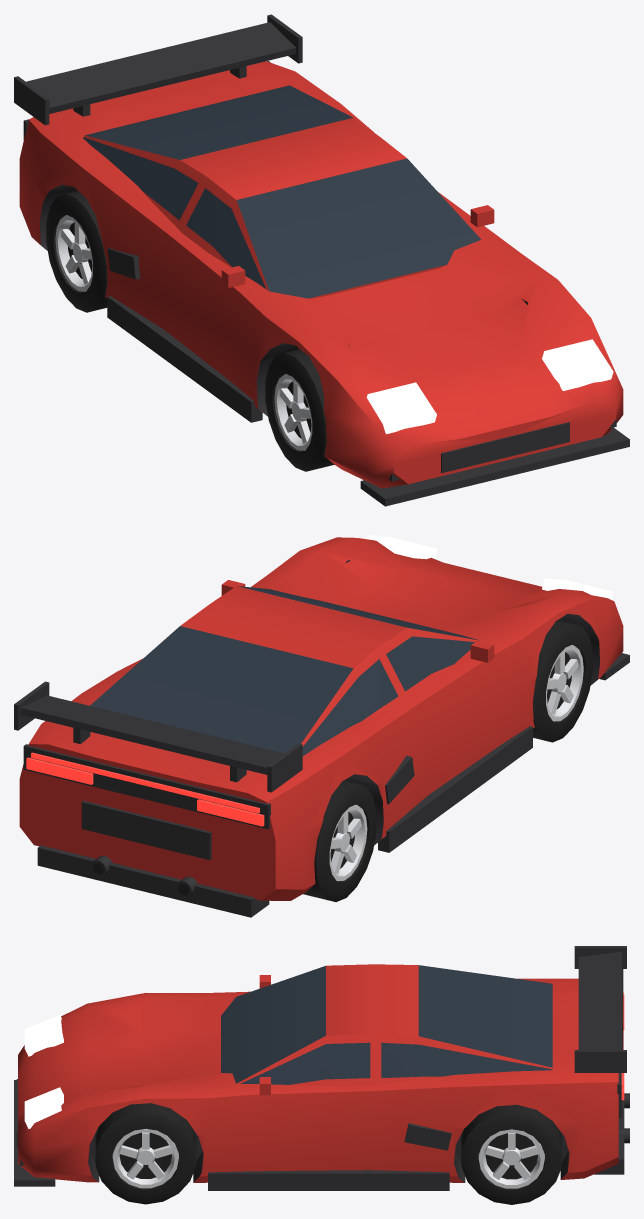
Rendered from car_a.glb.
The picture shows the model from 3 angles, top to bottom: view 1: azimuth 30°, elevation 25°; view 2: azimuth 150°, elevation 25°; view 3: azimuth 270°, elevation 25°; orthographic projection. The views are drawn at different scales.
Parts seen in each view (by area): view 1: body, wheel_FR, wheel_RR; view 2: body, wheel_RR, wheel_FR; view 3: body, wheel_FL, wheel_RL.
Boxes of the visible parts, left/top/right/bottom form: body: left=14, top=14, right=629, bottom=506; wheel_FR: left=265, top=349, right=334, bottom=471; wheel_RR: left=46, top=191, right=107, bottom=312; body: left=14, top=535, right=629, bottom=917; wheel_RR: left=303, top=780, right=376, bottom=901; wheel_FR: left=533, top=620, right=592, bottom=742; body: left=14, top=946, right=629, bottom=1190; wheel_FL: left=95, top=1103, right=196, bottom=1204; wheel_RL: left=461, top=1104, right=561, bottom=1204.
Size of the model in its own units: 1.98 by 1.21 by 4.46.
